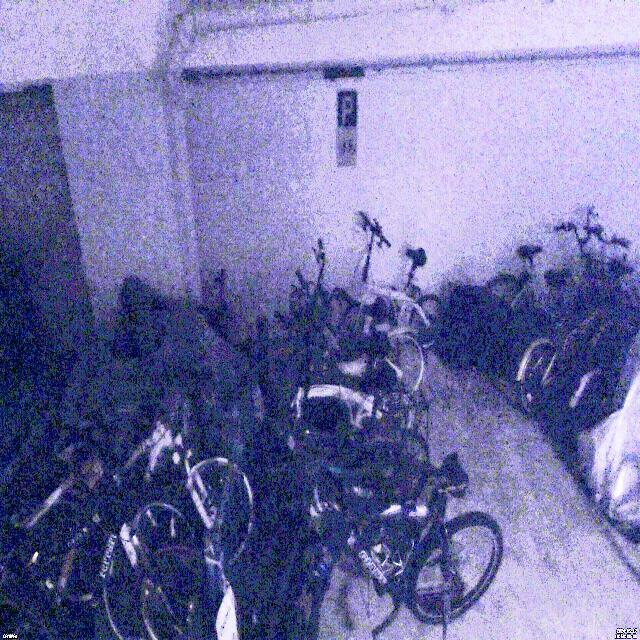bike: (47, 390, 254, 596), (282, 448, 502, 640), (0, 444, 206, 640), (514, 223, 640, 410), (288, 238, 428, 388), (480, 212, 604, 366), (334, 211, 445, 351)
